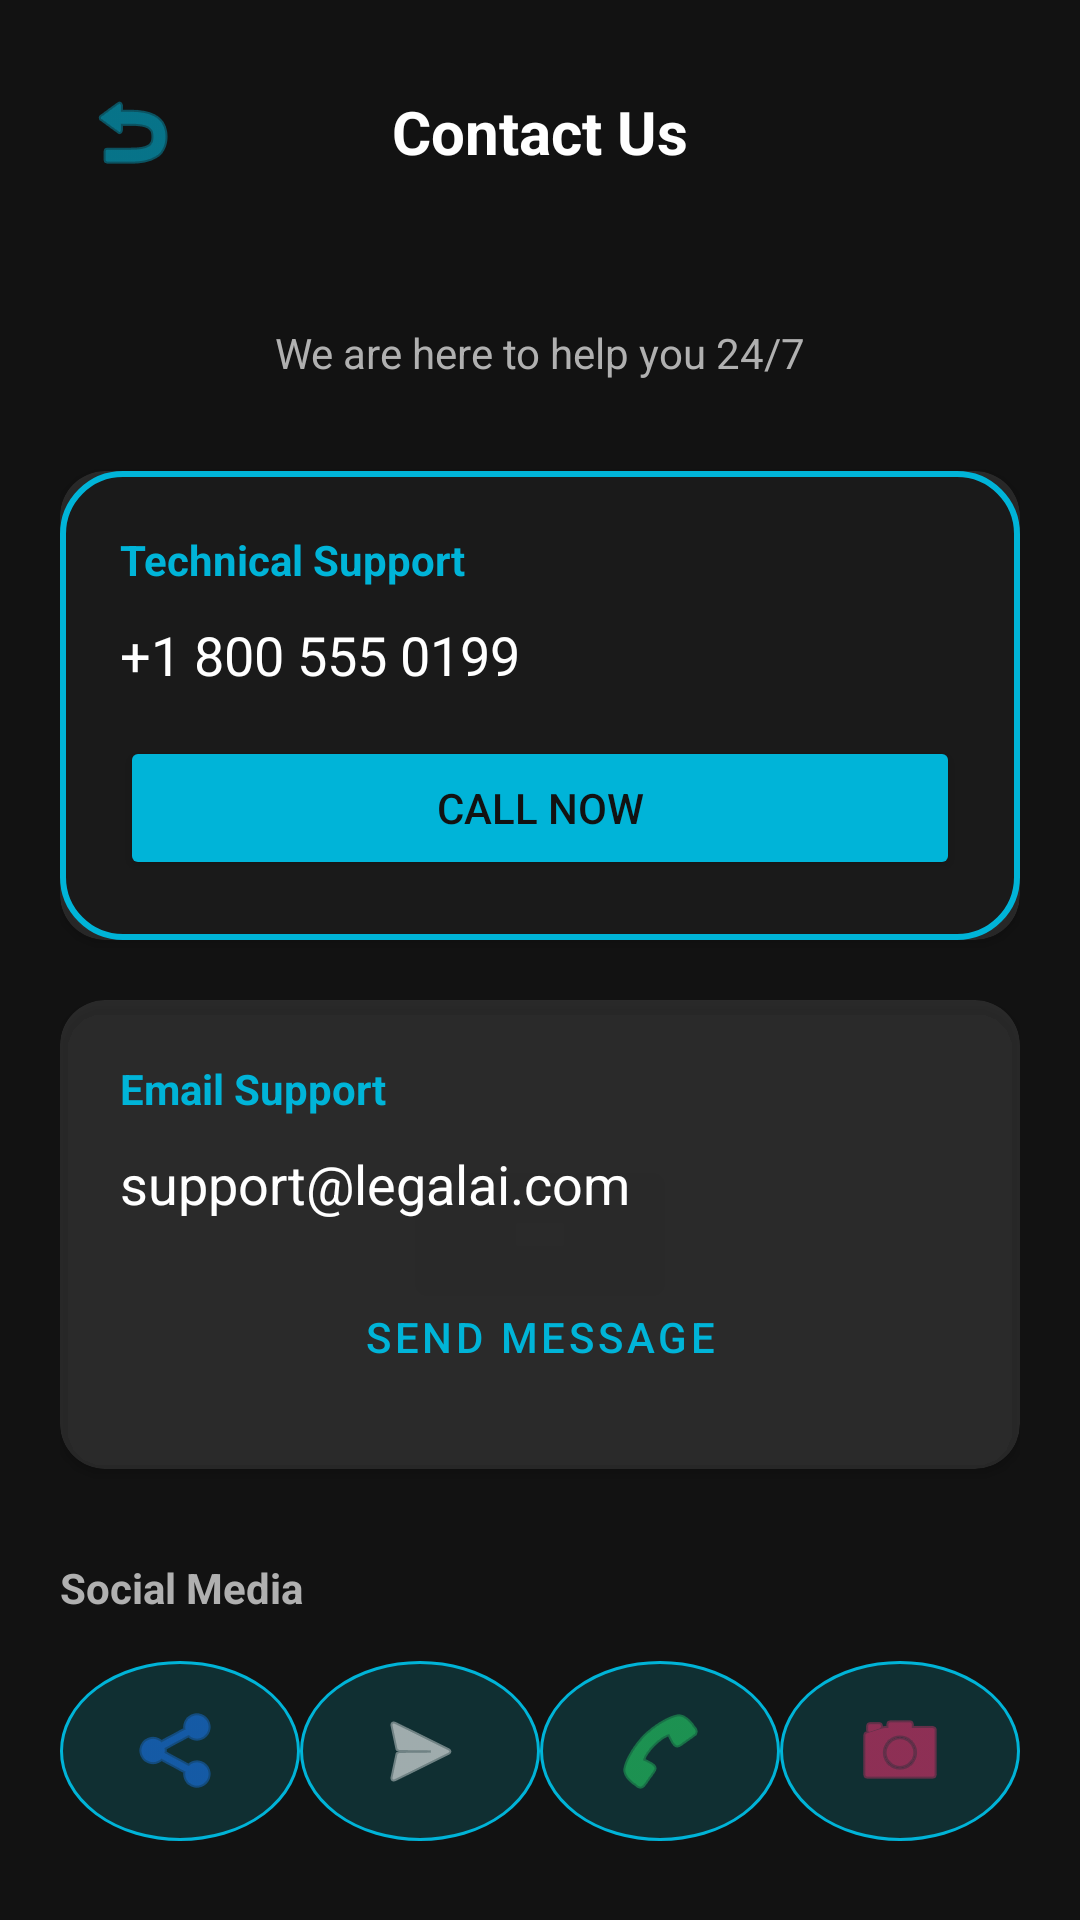

Where to tap for icons on this 1080 × 1920 app screen, as [x,y]:
Back: [133,132]
call: [660,1751]
